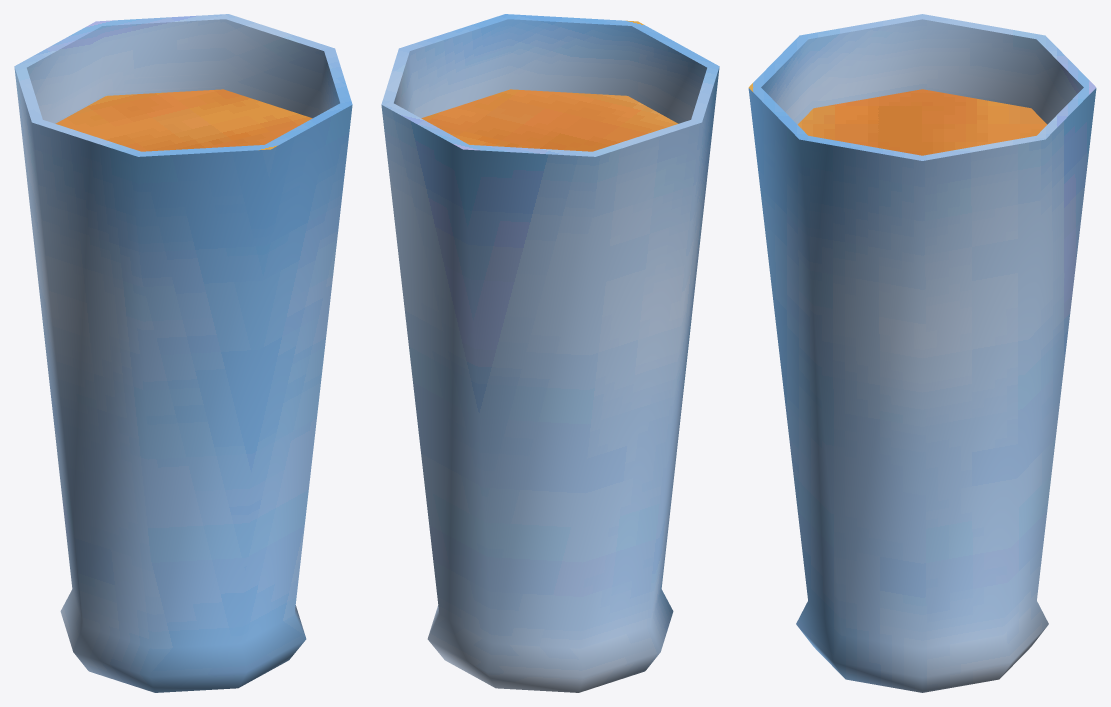
Rendered from edb_con_glass_s1_full_l0.fbx.
The picture shows the model from 3 angles, left to right: view 1: azimuth 30°, elevation 25°; view 2: azimuth 150°, elevation 25°; view 3: azimuth 270°, elevation 25°; orthographic projection.
Parts seen in each view (by area): view 1: mesh_node; view 2: mesh_node; view 3: mesh_node.
Part boxes in pixels (box(x1,y1,x2,y2)): mesh_node: box(14, 14, 352, 692); mesh_node: box(381, 14, 719, 692); mesh_node: box(748, 14, 1096, 692).
Bounding box in the file's own units: 0.1127 × 0.1999 × 0.1127.
1 material, 1 textured.
